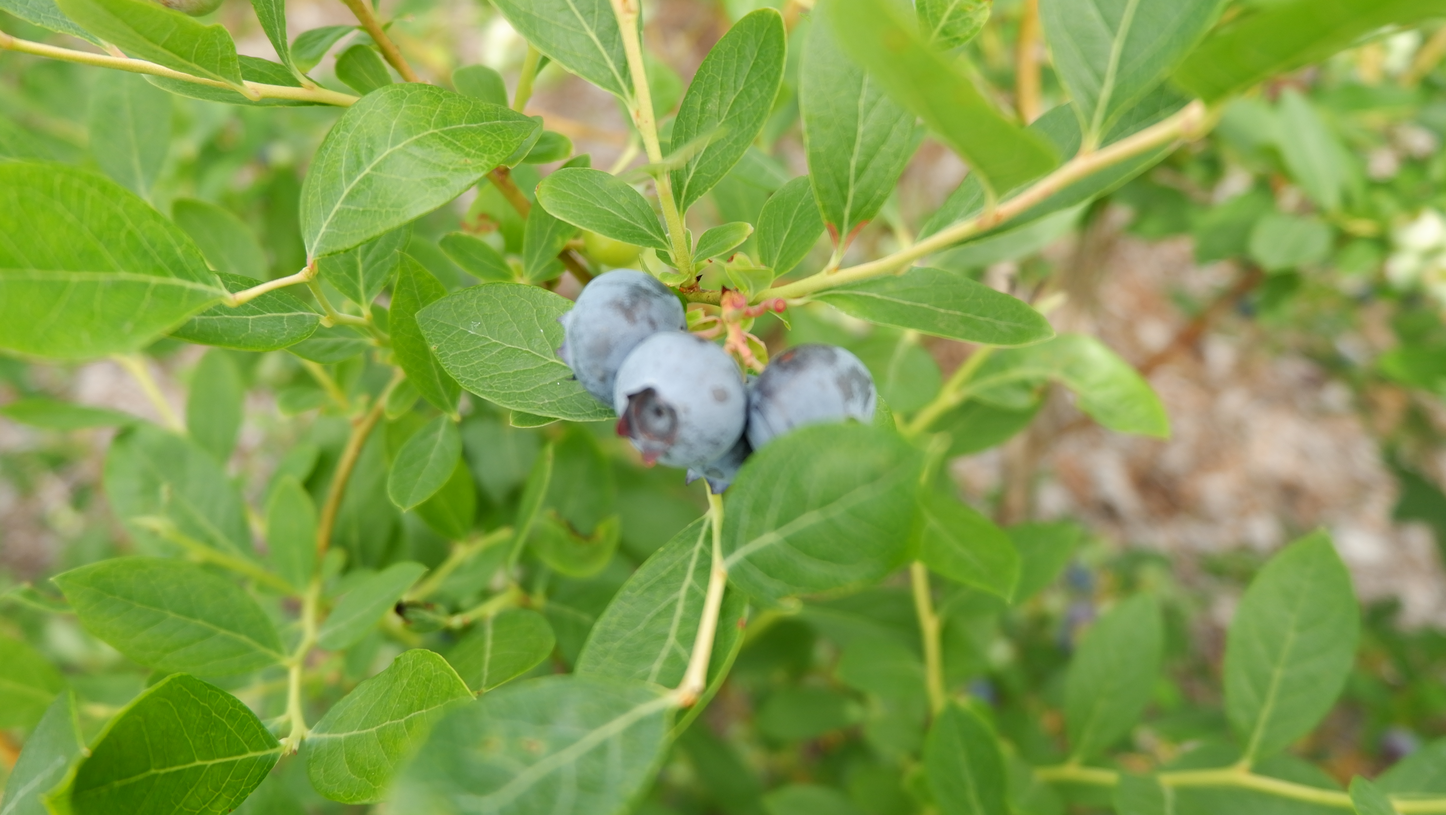Mature: (555, 268, 689, 408), (614, 331, 748, 471), (735, 342, 877, 453), (685, 432, 754, 494)
